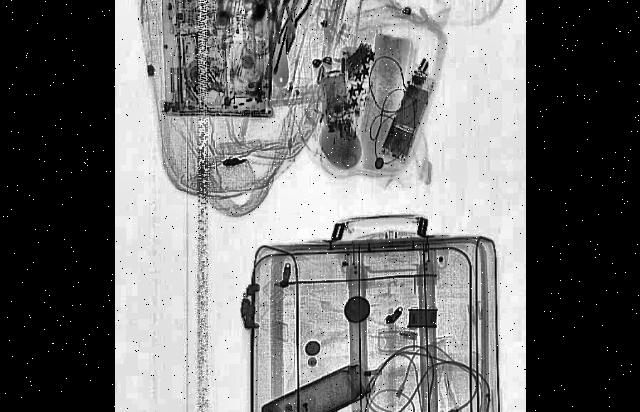Pliers: (272, 0, 313, 60)
